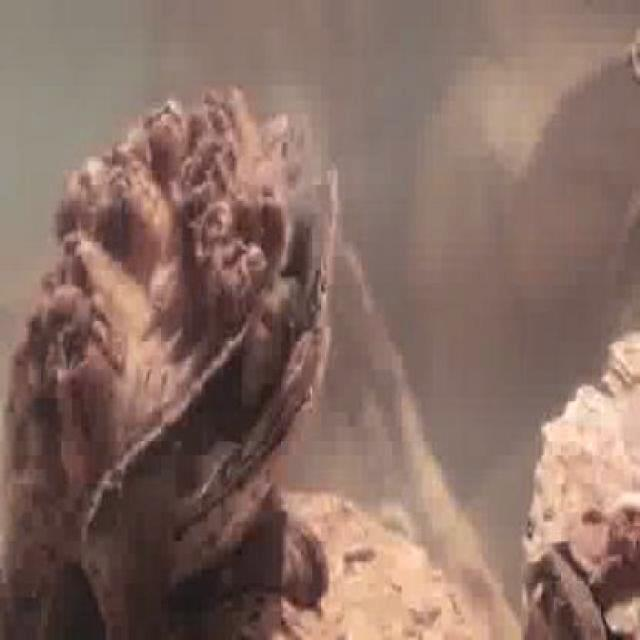Oyster-Closed: (205, 489, 476, 640), (527, 382, 640, 640), (177, 501, 329, 612), (607, 327, 640, 396)
Oyster-Open: (9, 89, 337, 596), (520, 555, 606, 640)
